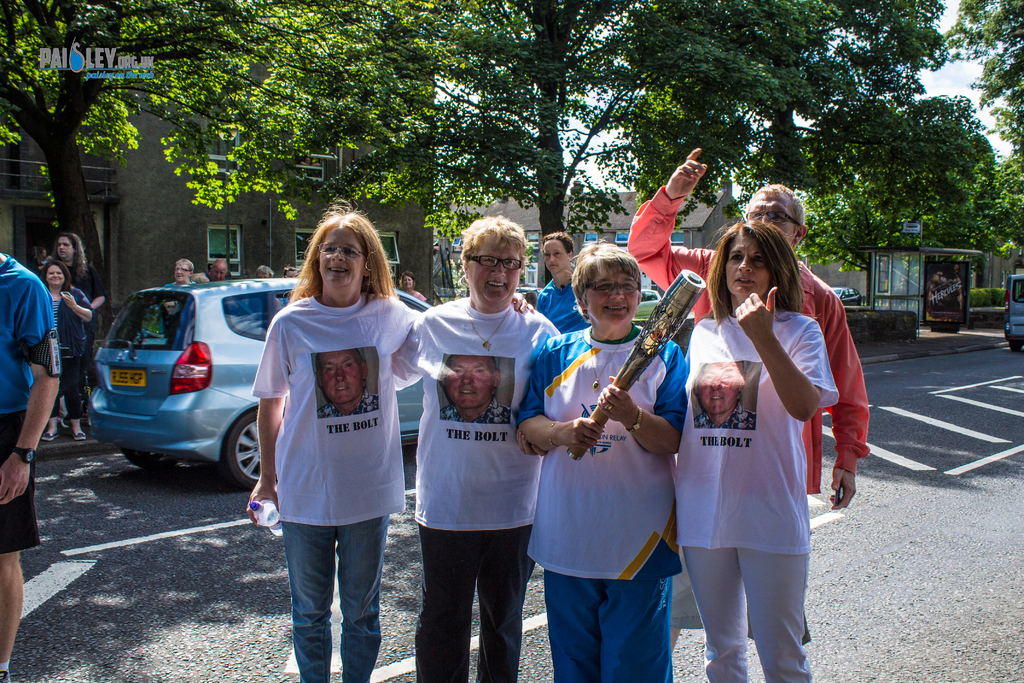Car: (86, 276, 433, 483)
